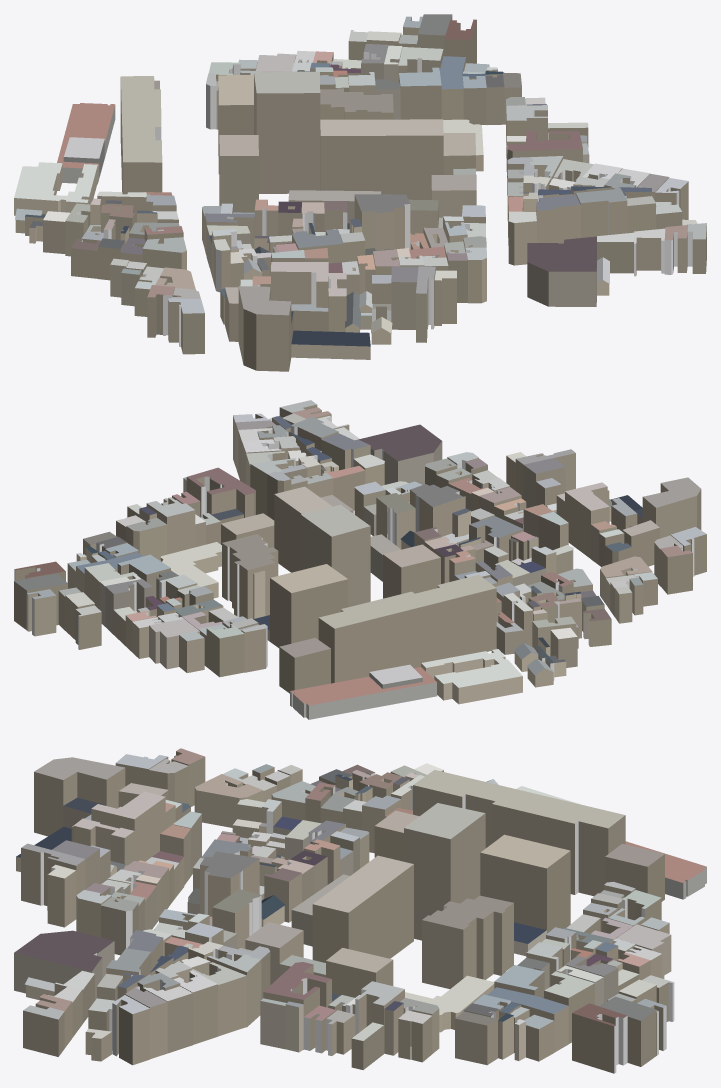
3 views of the same model, one above another, from view 1: azimuth 30°, elevation 25°; view 2: azimuth 150°, elevation 25°; view 3: azimuth 270°, elevation 25° (orthographic). The views are drawn at different scales.
Parts seen in each view (by area): view 1: tuile; view 2: tuile; view 3: tuile.
Boxes of the visible parts, x1,y1,x2,y2 form: tuile: (14,14,706,371); tuile: (14,400,706,719); tuile: (14,748,706,1073).
Size of the model in its own units: 268 by 50.45 by 282.
